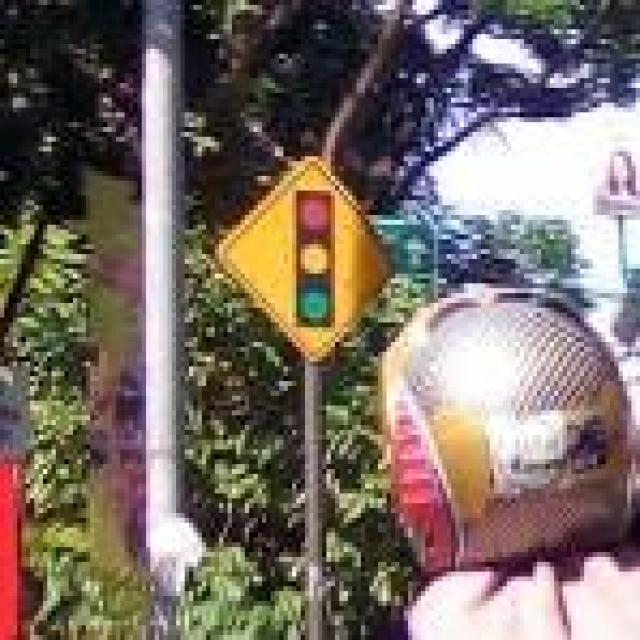traffic sign: (232, 156, 395, 356)
